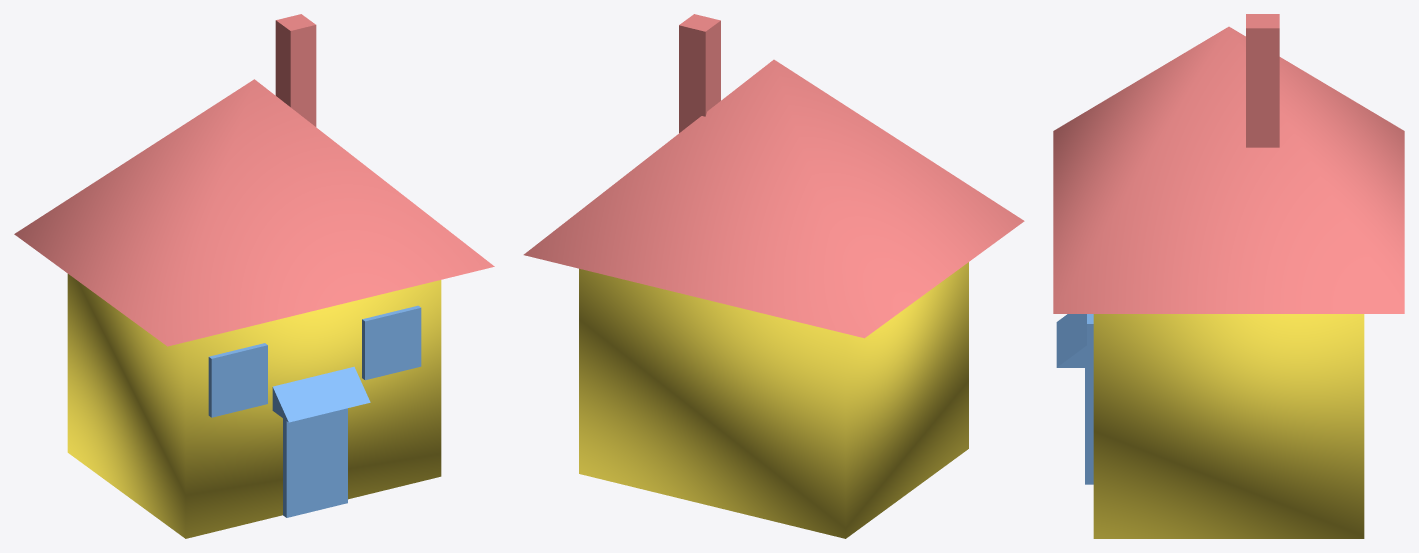
The model's file is house-a.glb.
3 renders of one model, left to right at view 1: azimuth 30°, elevation 25°; view 2: azimuth 150°, elevation 25°; view 3: azimuth 270°, elevation 25°, orthographic. The views are drawn at different scales.
Visible parts, largest first — view 1: House_A; view 2: House_A; view 3: House_A.
Part boxes in pixels (left/top/right/bottom): House_A: left=14, top=14, right=494, bottom=538; House_A: left=523, top=14, right=1024, bottom=538; House_A: left=1053, top=14, right=1404, bottom=538.
Bounding box in the file's own units: 6.4 × 7.8 × 5.2.
